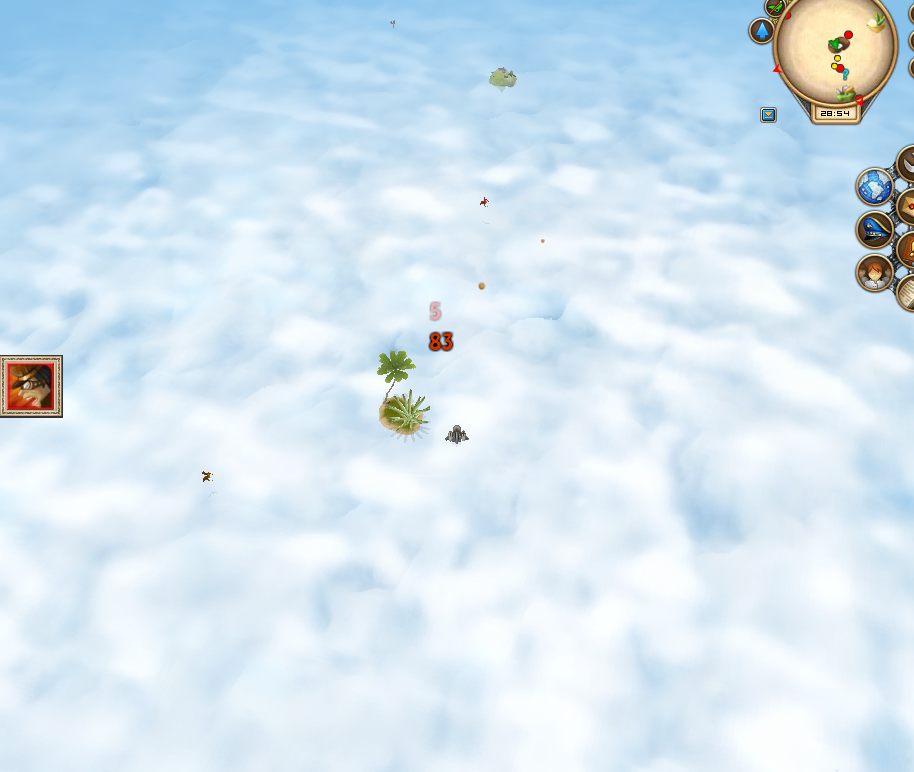coconut: (476, 278, 487, 294), (536, 234, 547, 245)
palm: (368, 352, 431, 442)
